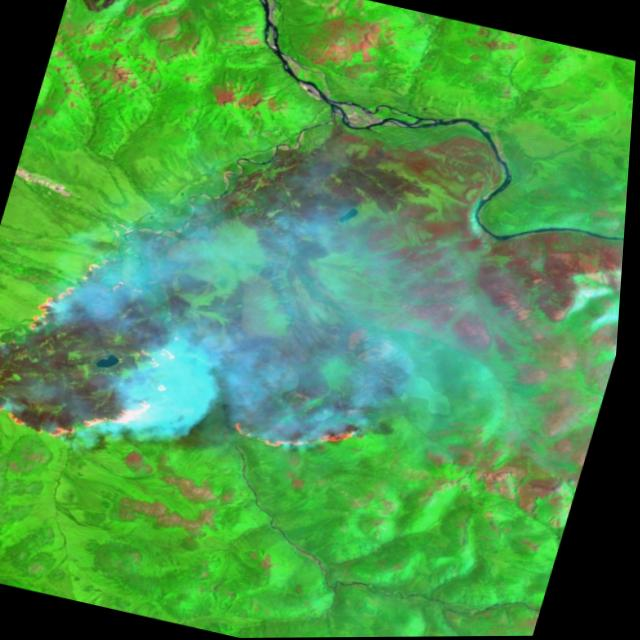fire: (0, 227, 404, 511)
